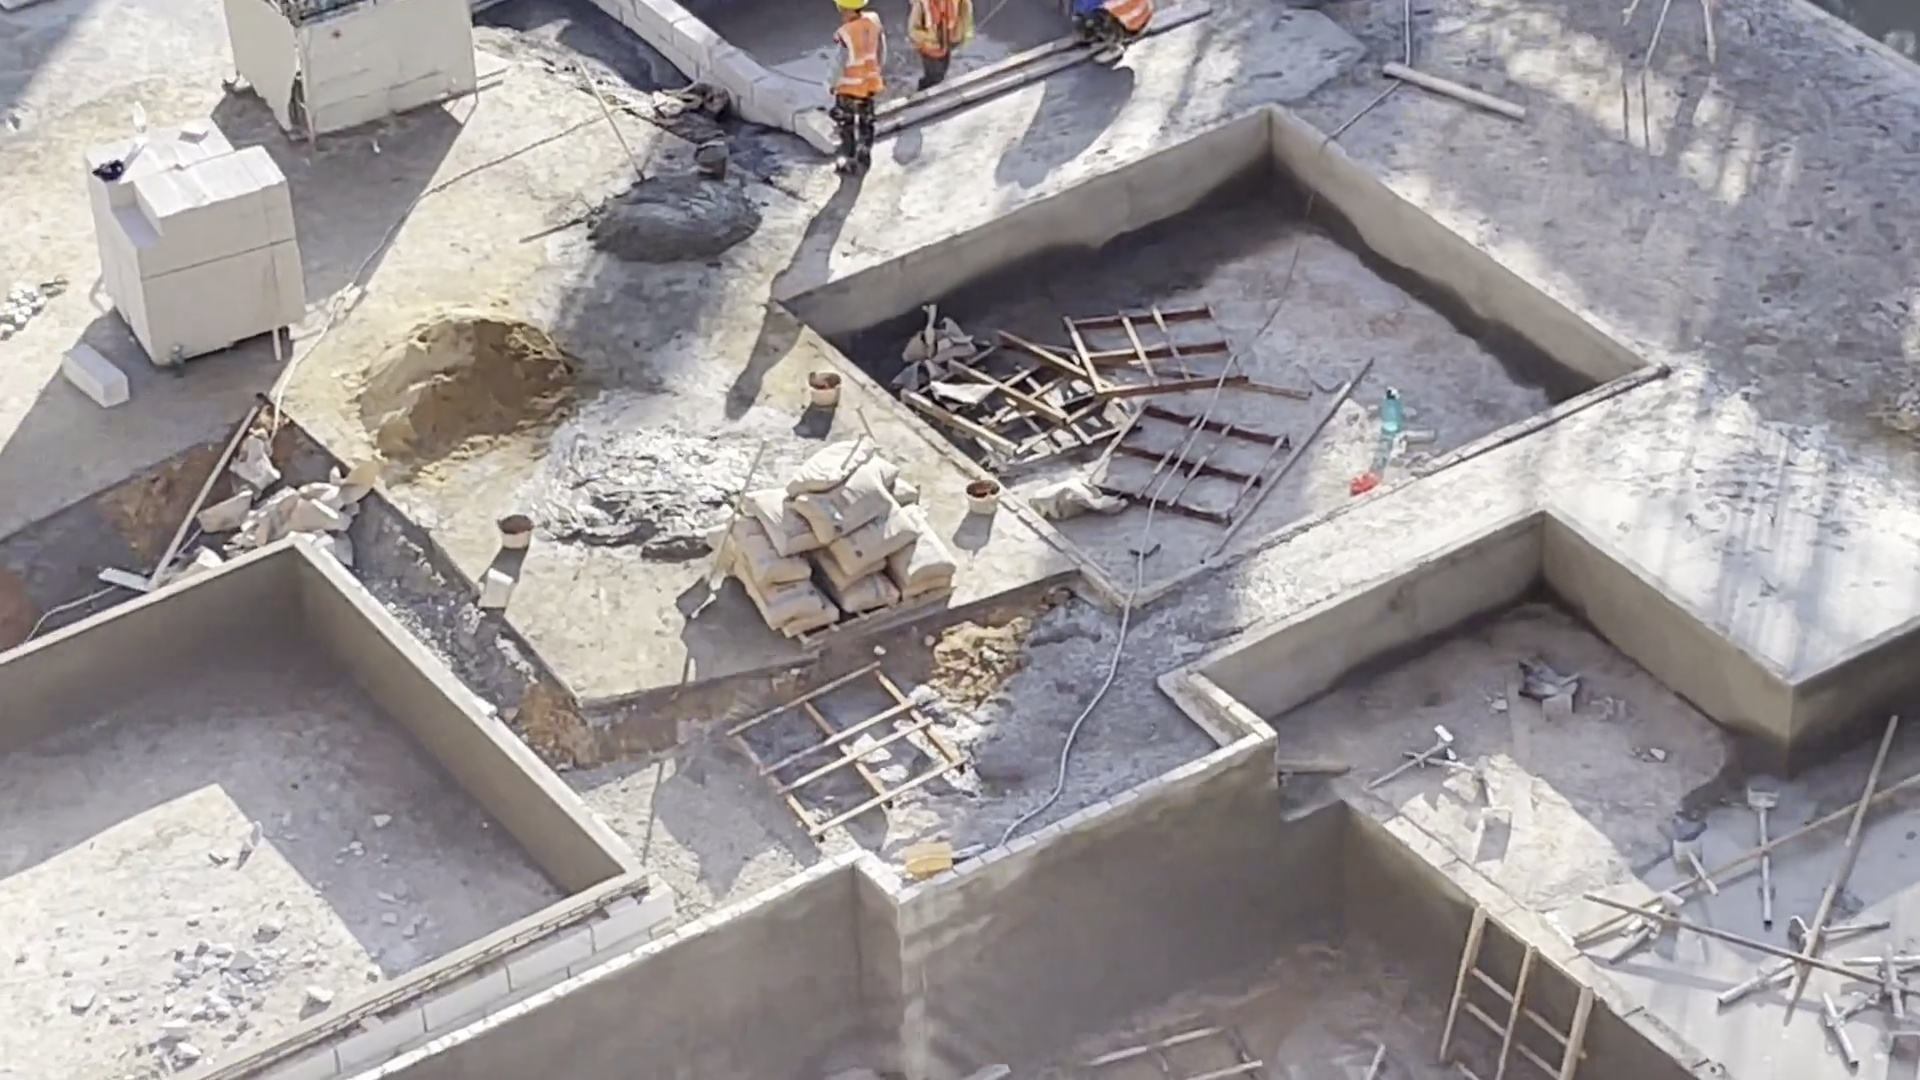brick: (81, 137, 314, 372)
person: (823, 1, 900, 168), (904, 1, 987, 86), (1068, 1, 1150, 70)
vest: (837, 16, 887, 96), (916, 1, 975, 64)
